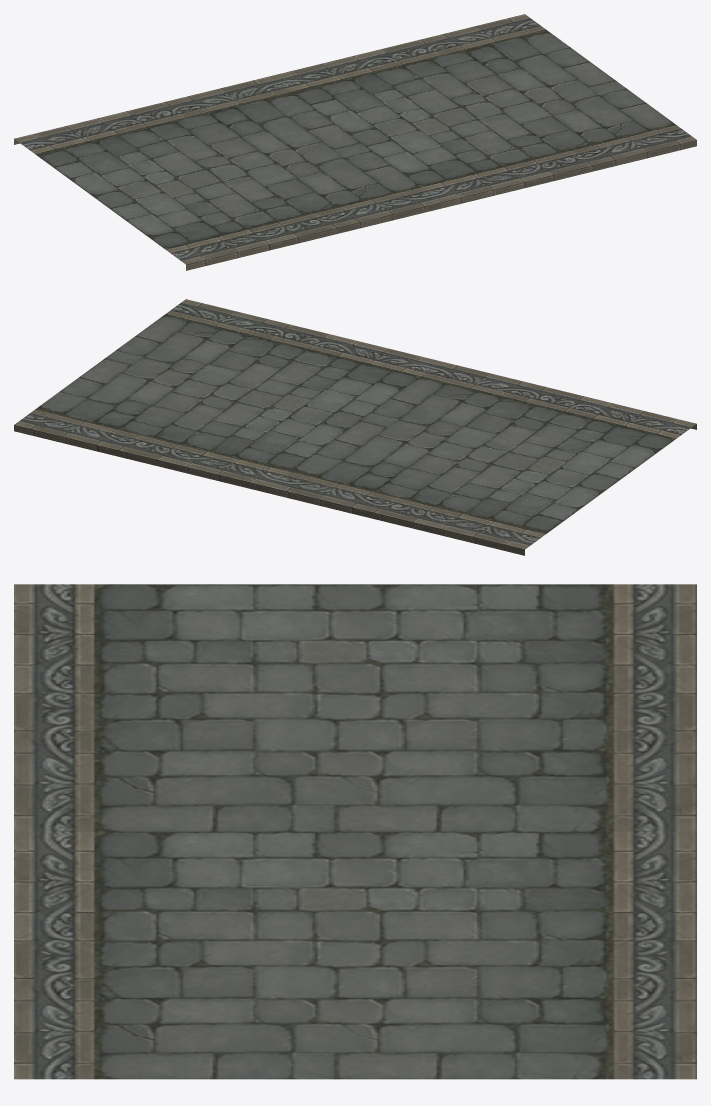
Rendered from qx_zhucheng_dimian_d2.FBX.
The picture shows the model from 3 angles, top to bottom: view 1: azimuth 30°, elevation 25°; view 2: azimuth 150°, elevation 25°; view 3: azimuth 270°, elevation 25°; orthographic projection. The views are drawn at different scales.
Parts seen in each view (by area): view 1: qx_zhucheng_dimian_d2; view 2: qx_zhucheng_dimian_d2; view 3: qx_zhucheng_dimian_d2.
Part boxes in pixels (box(x1,y1,x2,y2)): qx_zhucheng_dimian_d2: box(14, 14, 696, 270); qx_zhucheng_dimian_d2: box(14, 299, 696, 555); qx_zhucheng_dimian_d2: box(14, 584, 696, 1079).
Size of the model in its own units: 34.58 by 0.4038 by 20.16.
